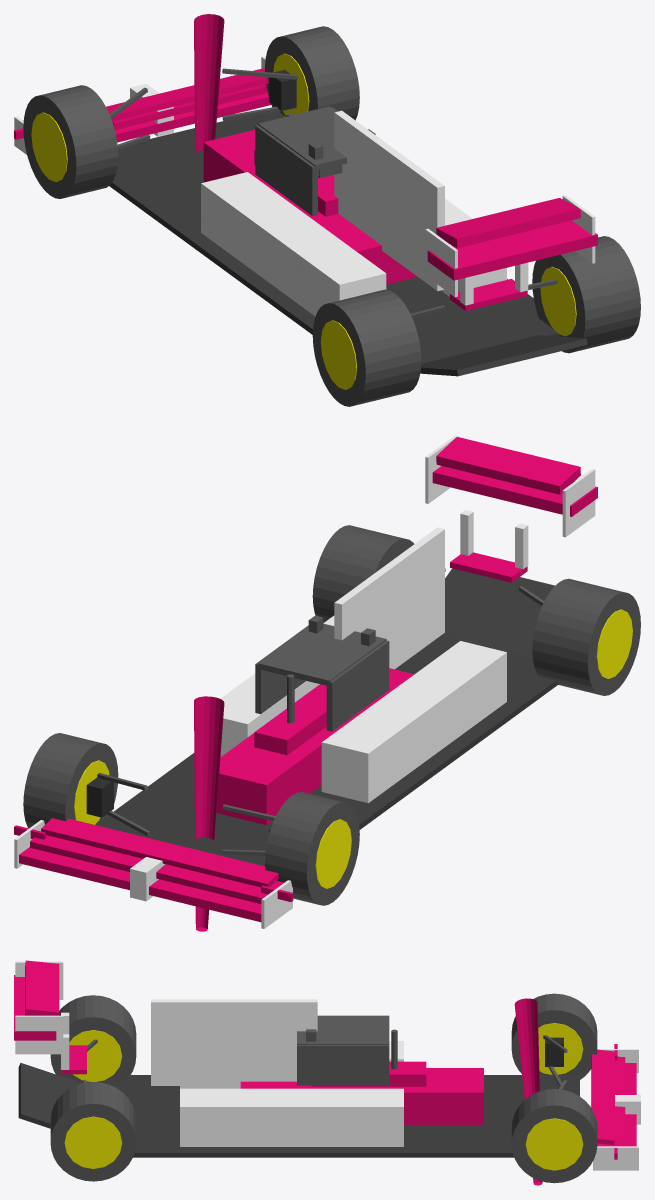
Rendered from ferrari_2026.glb.
3 views of the same model, one above another, from view 1: azimuth 30°, elevation 25°; view 2: azimuth 150°, elevation 25°; view 3: azimuth 270°, elevation 25° (orthographic). The views are drawn at different scales.
Visible parts, largest first — view 1: floor_plate, sidepod_l, engine_cover, tire_rl, tire_rr, tire_fl, tire_fr, rw_main, monocoque_lower, rw_flap, nose_cone, halo_arch_l (+15 smaller); view 2: sidepod_l, floor_plate, engine_cover, tire_rl, monocoque_lower, diffuser, tire_fl, tire_fr, fw_flap2, tire_rr, rw_flap, fw_main (+17 smaller); view 3: sidepod_r, engine_cover, floor_plate, monocoque_lower, tire_rr, tire_fr, halo_arch_r, tire_rl, tire_fl, rim_fr, rim_rr, halo_arch_top (+17 smaller).
Part boxes in pixels (x1,y1,x2,y2): floor_plate: (109,111,558,363); sidepod_l: (201,172,386,316); engine_cover: (334,110,444,291); tire_rl: (312,289,421,406); tire_rr: (532,236,640,353); tire_fl: (23,85,118,198); tire_fr: (265,26,359,120); rw_main: (427,220,597,280); monocoque_lower: (203,129,417,284); rw_flap: (436,198,580,248); nose_cone: (194,14,224,153); halo_arch_l: (255,125,317,216); sidepod_l: (321,641,506,803); floor_plate: (96,636,558,866); engine_cover: (334,527,444,669); tire_rl: (532,578,640,695); monocoque_lower: (216,668,413,825); diffuser: (441,568,554,658); tire_fl: (265,792,359,905); tire_fr: (23,733,118,828); fw_flap2: (41,818,279,887); tire_rr: (312,525,413,622); rw_flap: (436,437,580,494); fw_main: (19,847,261,922); sidepod_r: (180,1088,403,1146); engine_cover: (151,999,317,1085); floor_plate: (97,1075,579,1157); monocoque_lower: (240,1068,483,1125); tire_rr: (50,1082,136,1181); tire_fr: (511,1089,597,1183); halo_arch_r: (297,1045,389,1085); tire_rl: (50,995,136,1083); tire_fl: (511,993,597,1079); rim_fr: (525,1118,583,1170); rim_rr: (64,1116,122,1168); halo_arch_top: (297,1015,389,1044).
Bounding box in the file's own units: 2.08 × 1.71 × 4.89.
